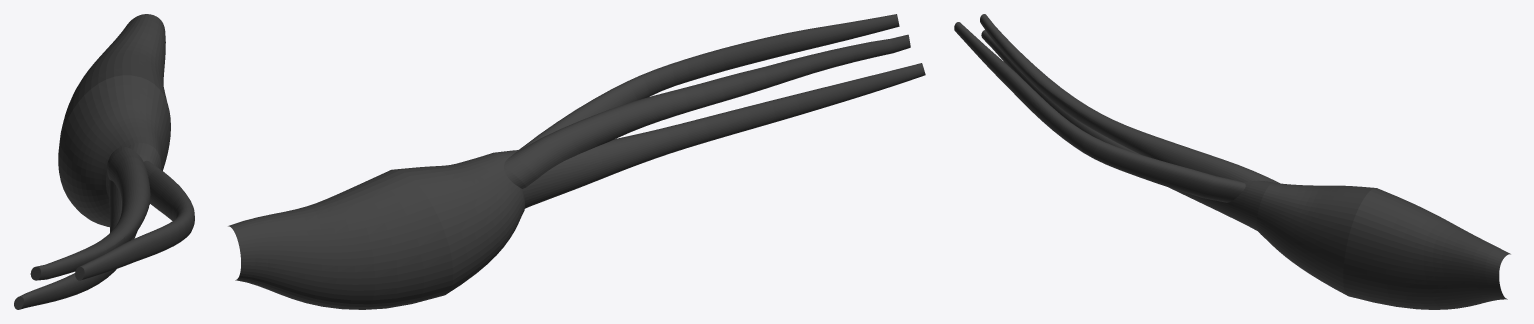
File: N_3_oculomotor_ciliary_ganglion.glb
3 renders of one model, left to right at view 1: azimuth 30°, elevation 25°; view 2: azimuth 150°, elevation 25°; view 3: azimuth 270°, elevation 25°, orthographic. The views are drawn at different scales.
Parts seen in each view (by area): view 1: N_3_oculomotor_ciliary_ganglion; view 2: N_3_oculomotor_ciliary_ganglion; view 3: N_3_oculomotor_ciliary_ganglion.
Part boxes in pixels (x1=…): N_3_oculomotor_ciliary_ganglion: x1=14, y1=14, x2=194, y2=309; N_3_oculomotor_ciliary_ganglion: x1=228, y1=14, x2=925, y2=309; N_3_oculomotor_ciliary_ganglion: x1=954, y1=14, x2=1510, y2=309.
Bounding box in the file's own units: 0.00506 × 0.00207 × 0.00651.
1 material, 1 textured.
